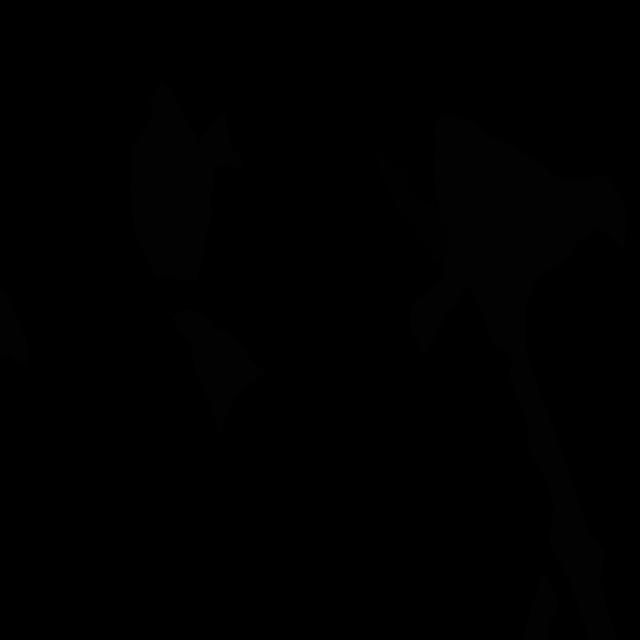cardboard: (410, 115, 626, 411), (509, 358, 617, 640), (131, 80, 212, 281), (172, 310, 268, 435), (197, 109, 243, 193), (522, 570, 560, 640), (0, 290, 32, 365)
rigid_plastic: (377, 148, 448, 263)
